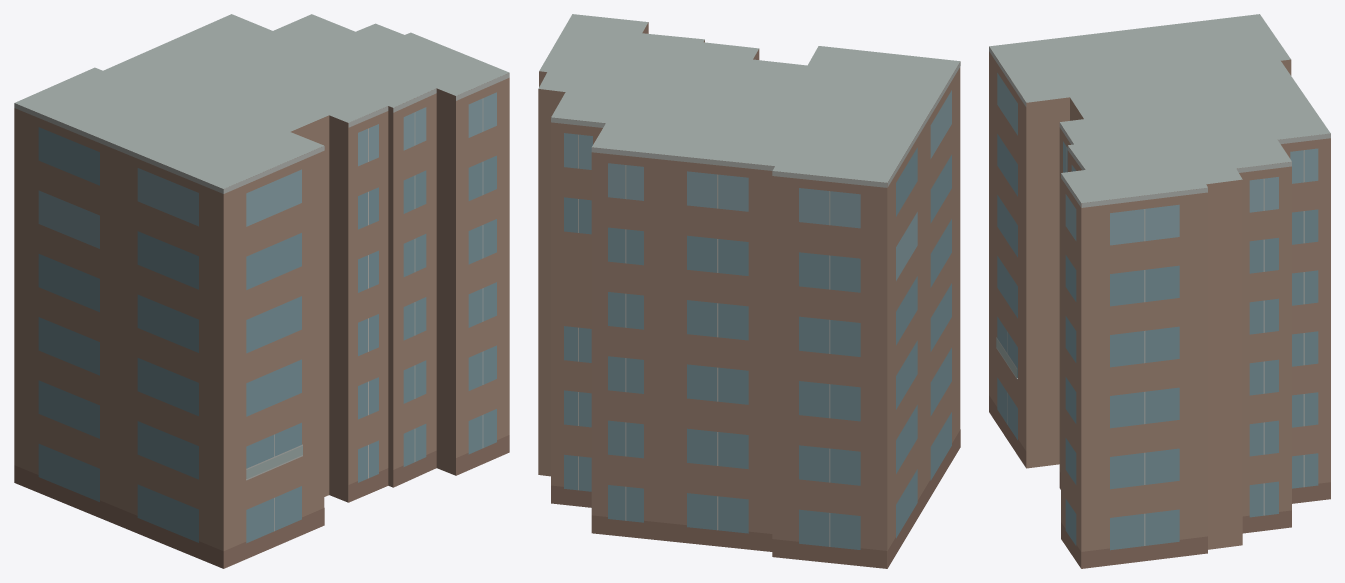
File: survey-upis-32569279.glb
3 renders of one model, left to right at view 1: azimuth 30°, elevation 25°; view 2: azimuth 150°, elevation 25°; view 3: azimuth 270°, elevation 25°, orthographic. The views are drawn at different scales.
Visible parts, largest first — view 1: survey-upis-32569279.tmp; view 2: survey-upis-32569279.tmp; view 3: survey-upis-32569279.tmp.
Boxes of the visible parts, x1,y1,x2,y2 form: survey-upis-32569279.tmp: [14, 14, 509, 568]; survey-upis-32569279.tmp: [538, 14, 960, 568]; survey-upis-32569279.tmp: [989, 14, 1330, 568].
Bounding box in the file's own units: 20.64 × 18.6 × 15.76.
